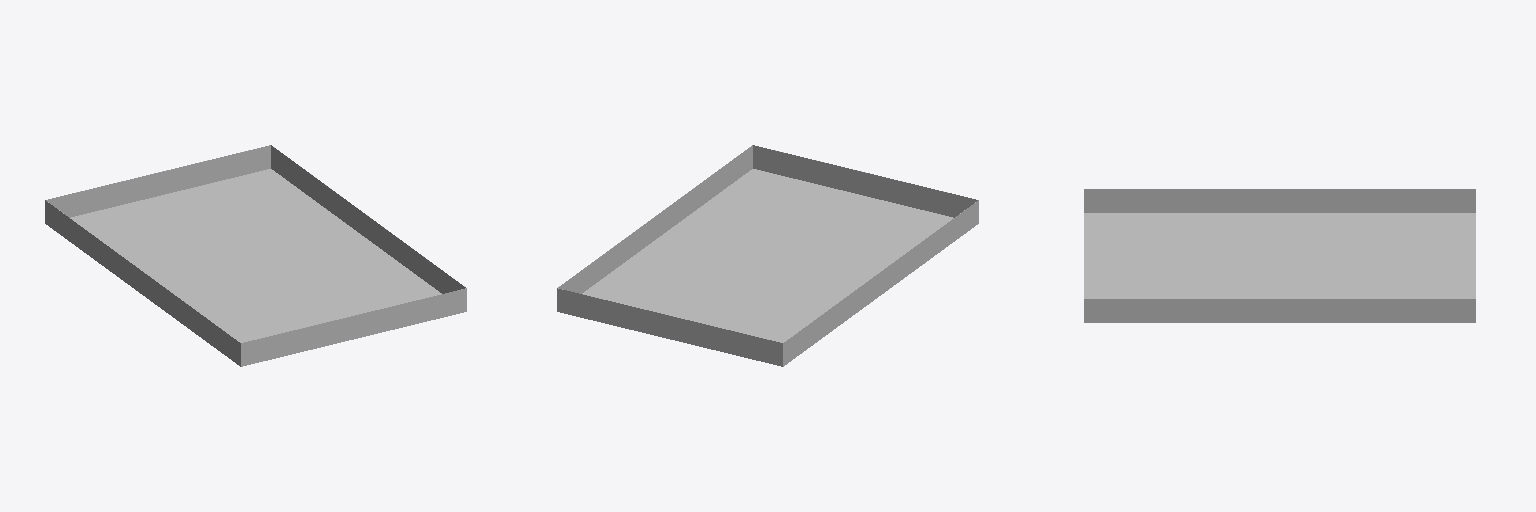
Rendered from tray.obj.
3 views of the same model, side by side, from view 1: azimuth 30°, elevation 25°; view 2: azimuth 150°, elevation 25°; view 3: azimuth 270°, elevation 25° (orthographic).
Parts seen in each view (by area): view 1: Cube; view 2: Cube; view 3: Cube.
Part boxes in pixels (left/top/right/bottom): Cube: left=45, top=145, right=466, bottom=366; Cube: left=557, top=145, right=978, bottom=366; Cube: left=1084, top=189, right=1475, bottom=322.
Bounding box in the file's own units: 4 × 0.401 × 6.